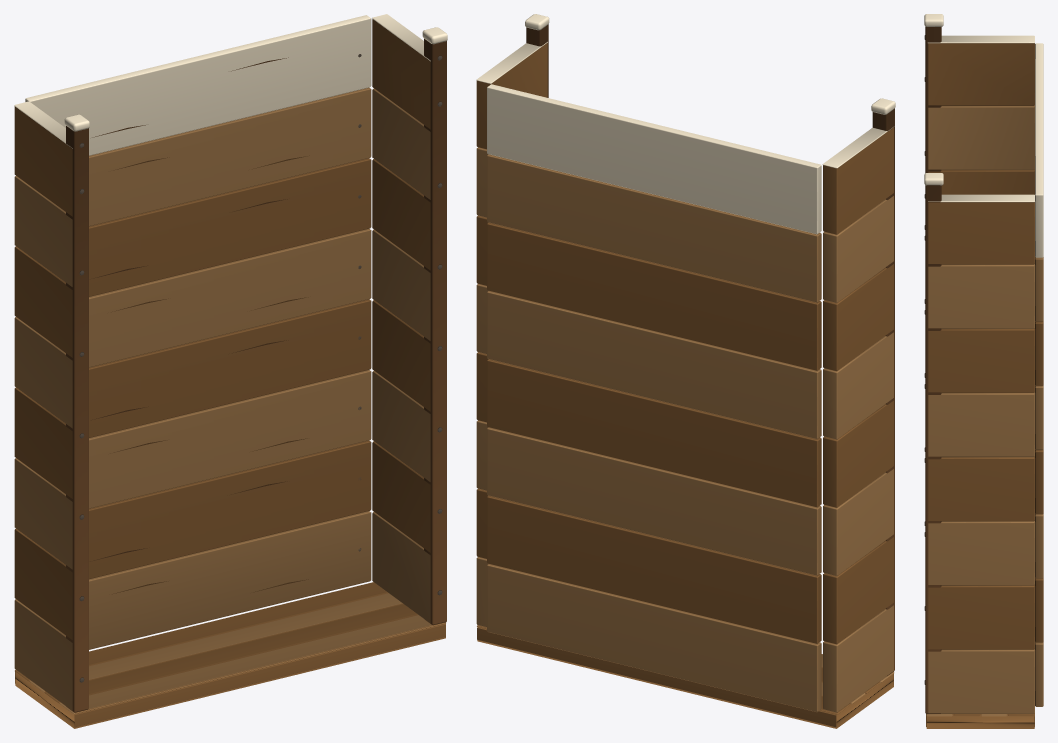
The model's file is container_pantry.glb.
3 views of the same model, side by side, from view 1: azimuth 30°, elevation 25°; view 2: azimuth 150°, elevation 25°; view 3: azimuth 270°, elevation 25° (orthographic). The views are drawn at different scales.
Visible parts, largest first — view 1: Back slat, Side slat.008, Side slat, Solid floor below seams, Front stile, Front stile.001; view 2: Back slat, Side slat, Side slat.008, Solid floor below seams, Front stile, Front stile.001; view 3: Side slat.008, Side slat, Back slat, Front stile.001, Solid floor below seams, Front stile.
Part boxes in pixels (bbox=[...]): Back slat: bbox=[25, 15, 371, 649]; Side slat.008: bbox=[372, 14, 430, 623]; Side slat: bbox=[14, 101, 72, 710]; Solid floor below seams: bbox=[15, 582, 446, 728]; Front stile: bbox=[64, 114, 89, 712]; Front stile.001: bbox=[422, 27, 447, 625]; Back slat: bbox=[487, 84, 821, 711]; Side slat: bbox=[822, 126, 894, 712]; Side slat.008: bbox=[476, 42, 547, 627]; Solid floor below seams: bbox=[477, 625, 894, 728]; Front stile: bbox=[871, 98, 895, 675]; Front stile.001: bbox=[525, 14, 549, 97]; Side slat.008: bbox=[928, 194, 1034, 713]; Side slat: bbox=[928, 35, 1034, 194]; Back slat: bbox=[1035, 43, 1043, 706]; Front stile.001: bbox=[924, 173, 943, 713]; Solid floor below seams: bbox=[926, 713, 1034, 728]; Front stile: bbox=[924, 14, 943, 525].
Size of the model in its own units: 7.22 by 11.15 by 2.2.
